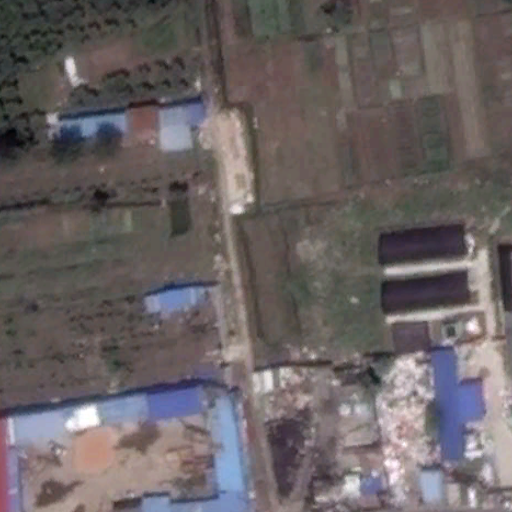msw: (378, 349, 445, 502)
